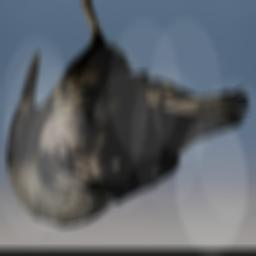Crow: (6, 0, 252, 229)
